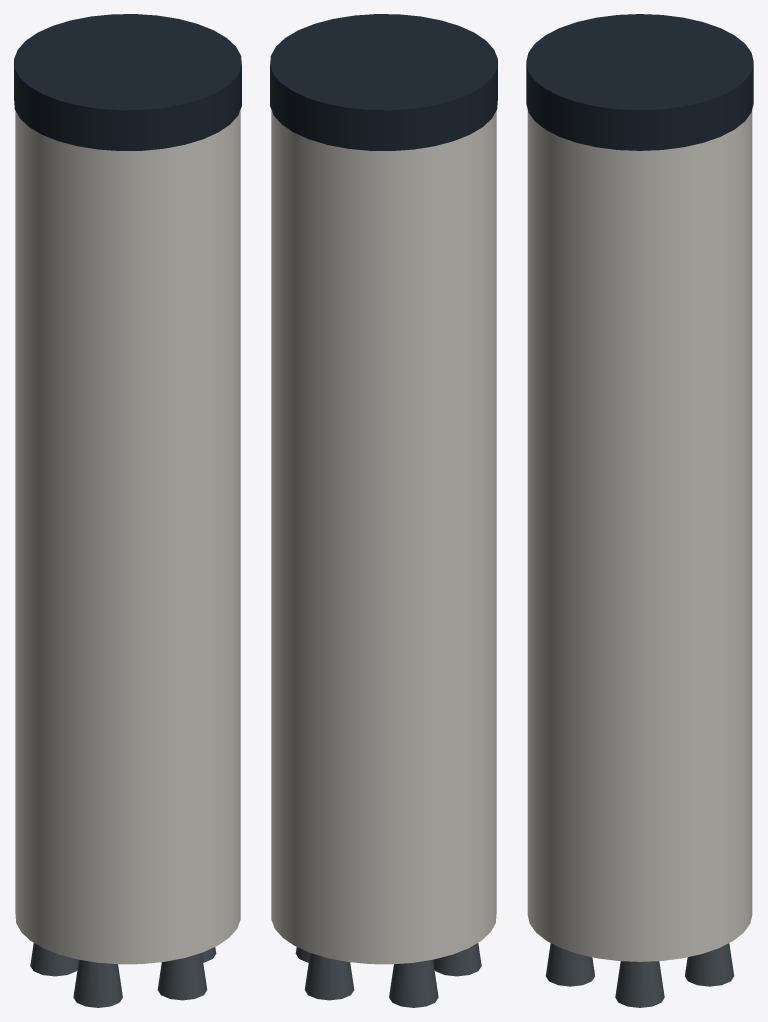
Rendered from saturnv-stage-1.glb.
3 renders of one model, left to right at view 1: azimuth 30°, elevation 25°; view 2: azimuth 150°, elevation 25°; view 3: azimuth 270°, elevation 25°, orthographic.
Visible parts, largest first — view 1: body-0, interstage-0, engine-0-2, engine-0-1, engine-0-3; view 2: body-0, interstage-0, engine-0-3, engine-0-4, engine-0-2; view 3: body-0, interstage-0, engine-0-0, engine-0-1, engine-0-4.
Part boxes in pixels (x1,y1,x2,y2): body-0: [15, 110, 240, 964]; interstage-0: [14, 14, 241, 150]; engine-0-2: [73, 959, 122, 1007]; engine-0-1: [157, 953, 207, 1000]; engine-0-3: [30, 943, 78, 976]; body-0: [271, 110, 496, 964]; interstage-0: [270, 14, 497, 150]; engine-0-3: [389, 959, 438, 1007]; engine-0-4: [304, 953, 354, 1000]; engine-0-2: [433, 943, 481, 976]; body-0: [527, 110, 752, 961]; interstage-0: [526, 14, 753, 150]; engine-0-0: [615, 961, 664, 1007]; engine-0-1: [545, 943, 594, 986]; engine-0-4: [685, 943, 734, 986].
Bounding box in the file's own units: 10.18 × 44.64 × 10.18.
